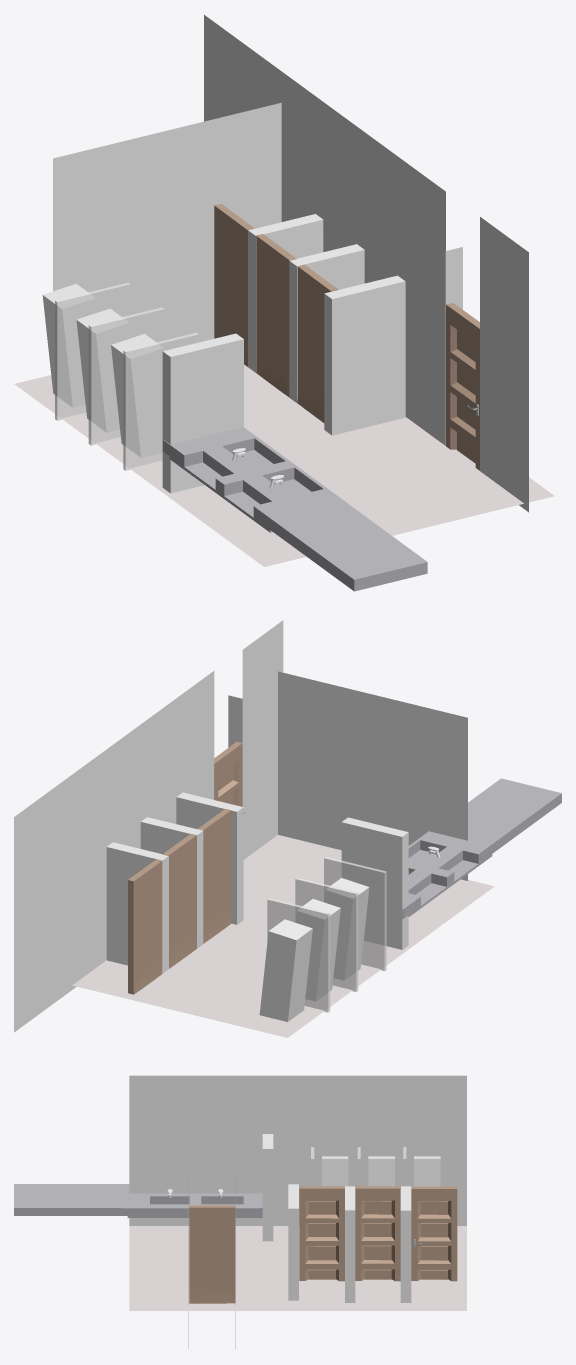
3 renders of one model, top to bottom at view 1: azimuth 30°, elevation 25°; view 2: azimuth 150°, elevation 25°; view 3: azimuth 270°, elevation 25°, orthographic. The views are drawn at different scales.
Parts seen in each view (by area): view 1: Plane (×5), Box (×16), Door (×4); view 2: Plane (×5), Box (×13), Door (×4); view 3: Plane (×2), Door (×4), Box (×11).
Boxes of the visible parts, x1=… form: Plane (×5): x1=14, y1=15, x2=554, y2=566; Box (×16): x1=42, y1=214, x2=427, y2=591; Door (×4): x1=214, y1=204, x2=479, y2=470; Plane (×5): x1=14, y1=620, x2=494, y2=1037; Box (×13): x1=106, y1=778, x2=561, y2=1021; Door (×4): x1=128, y1=741, x2=242, y2=994; Plane (×2): x1=129, y1=1075, x2=466, y2=1310; Door (×4): x1=189, y1=1186, x2=457, y2=1303; Box (×11): x1=14, y1=1134, x2=440, y2=1302.
Size of what is drawn, in the model's own units: 8.68 by 8.99 by 20.7.
